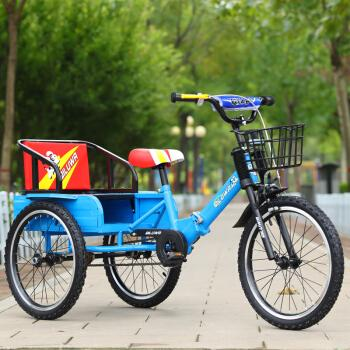empty: (6, 84, 350, 330)
